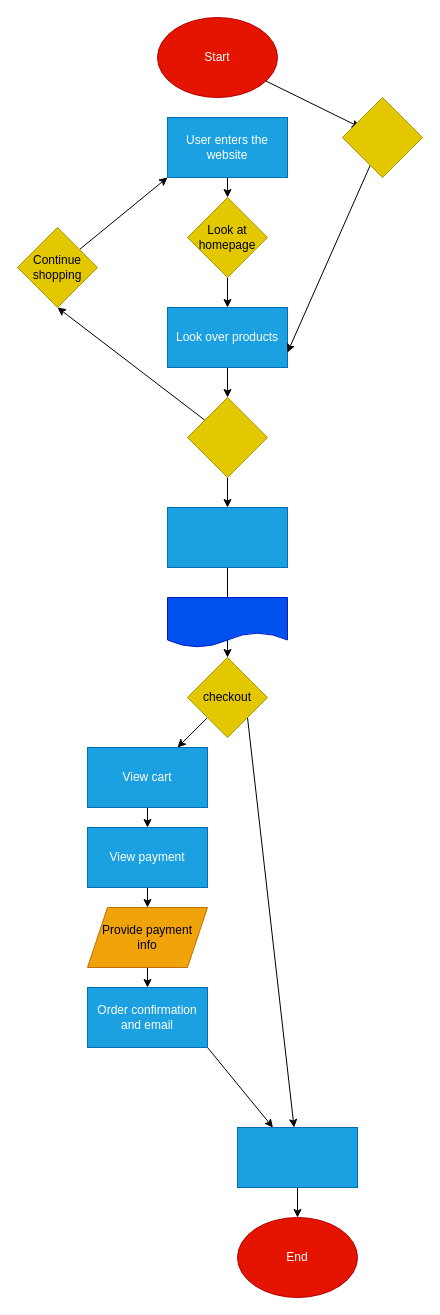
Some shapes in this 440 by 1315 pixel diagram are drawn without their labels. Here are the shapes that lost their labels. From the top down, the box of each, then its label:
(342, 96, 422, 178): User search
(186, 396, 268, 478): View specific product
(166, 506, 288, 568): Add to cart
(166, 596, 288, 648): Add to cart confirmation
(236, 1126, 358, 1188): Leave website
